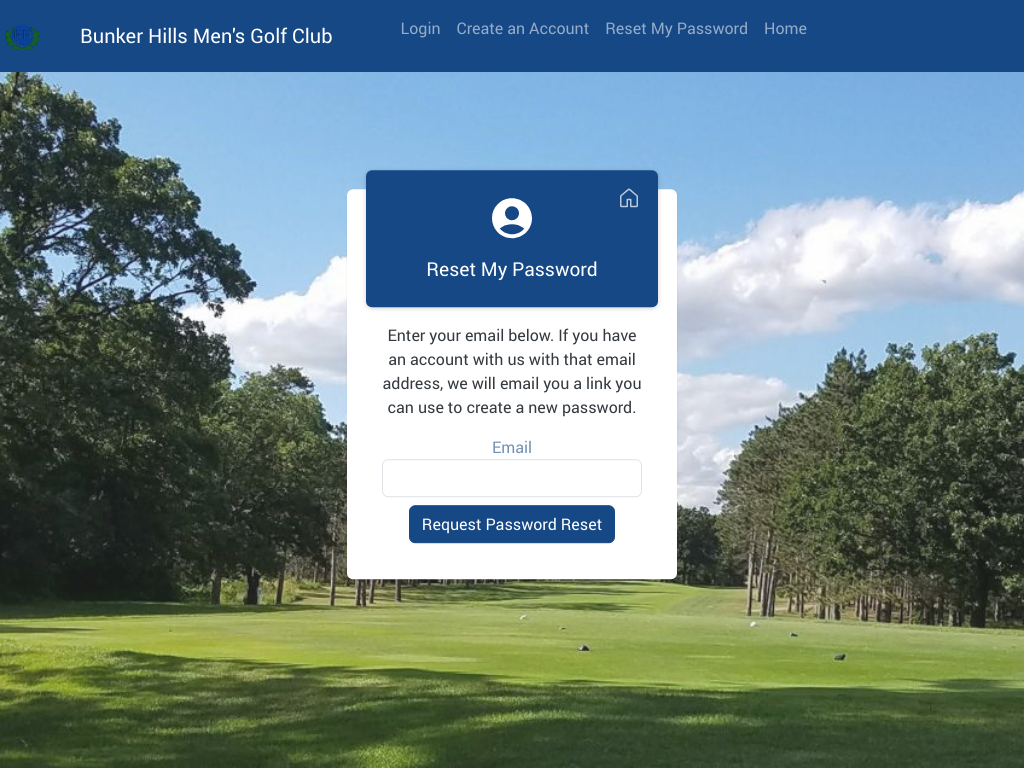
Test case: submitting the login form with an invalid email fails validation
In the field labelled "Email": (512, 479) [382,460,642,498], type "not-an-email"
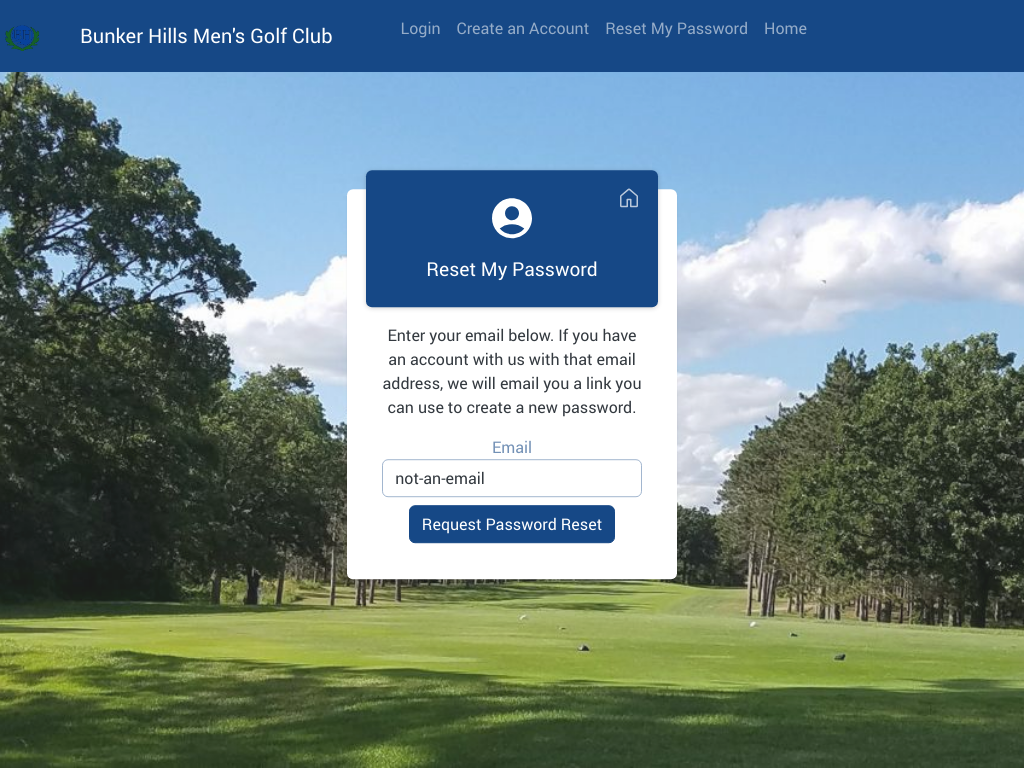
Click the button "Request Password Reset": (512, 525) [409,506,615,544]
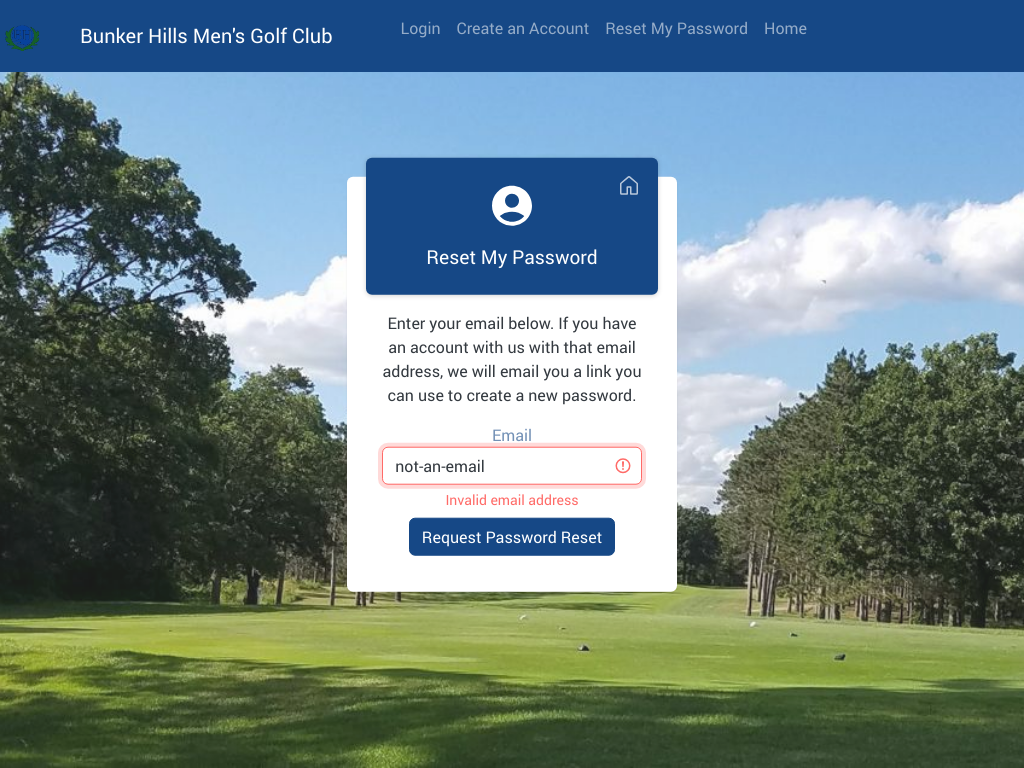
Result: the text "Invalid email address" is shown at [445,490,579,509]
